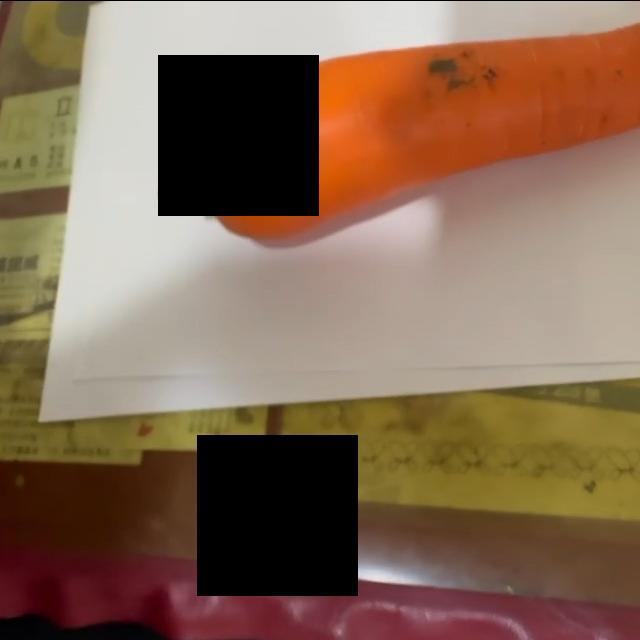carrot: (156, 9, 640, 243)
